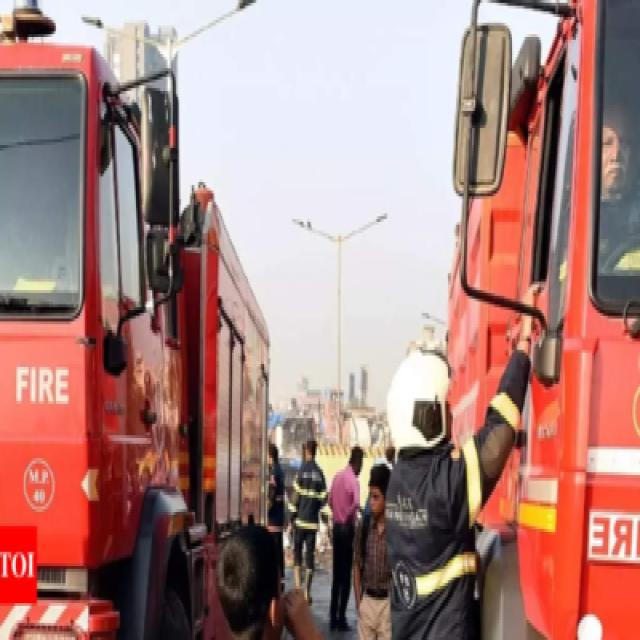emergency: (0, 2, 269, 638), (448, 0, 640, 637)
